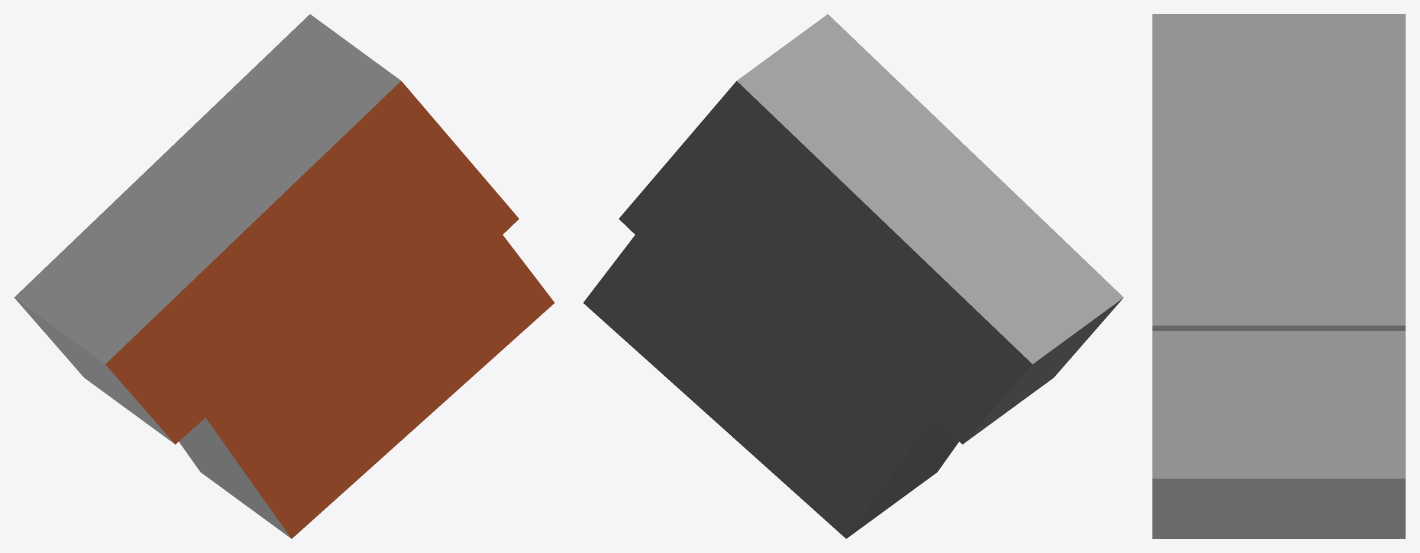
Rendered from construction_0672_assumed_A_Casa_h6m.obj.
3 renders of one model, left to right at view 1: azimuth 30°, elevation 25°; view 2: azimuth 150°, elevation 25°; view 3: azimuth 270°, elevation 25°, orthographic. The views are drawn at different scales.
Parts seen in each view (by area): view 1: construction_0672_assumed_A_Casa; view 2: construction_0672_assumed_A_Casa; view 3: construction_0672_assumed_A_Casa.
Boxes of the visible parts, left/top/right/bottom form: construction_0672_assumed_A_Casa: left=14, top=14, right=554, bottom=538; construction_0672_assumed_A_Casa: left=583, top=14, right=1123, bottom=538; construction_0672_assumed_A_Casa: left=1152, top=14, right=1405, bottom=538.
Size of the model in its own units: 17.06 by 15.65 by 6.
